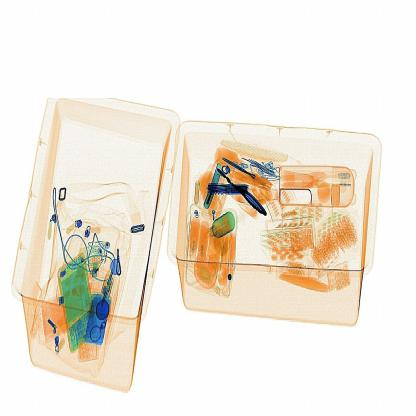scissors: (204, 175, 258, 211)
